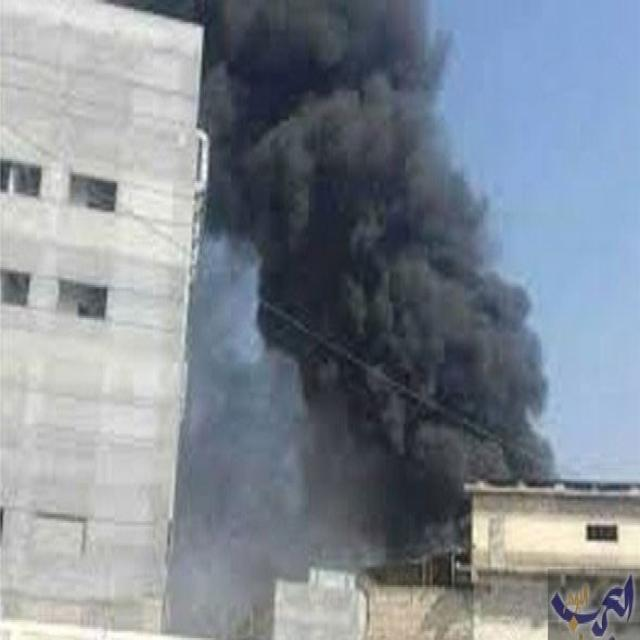Fire: (189, 0, 556, 501)
